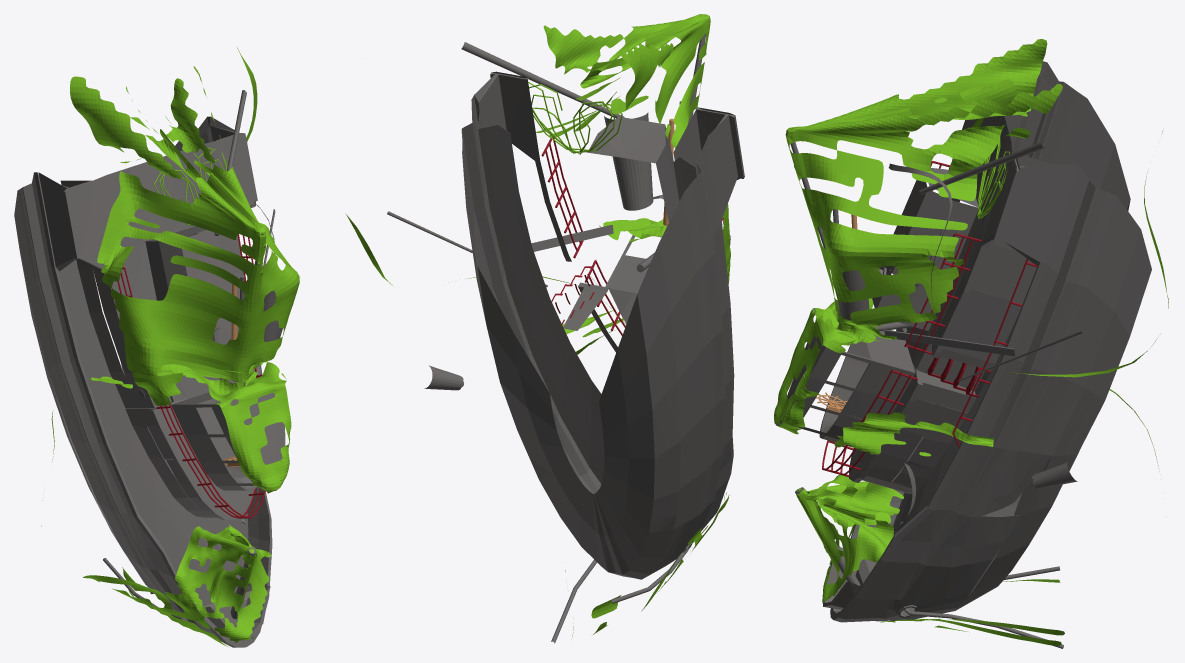
Rendered from herkules.glb.
3 renders of one model, left to right at view 1: azimuth 30°, elevation 25°; view 2: azimuth 150°, elevation 25°; view 3: azimuth 270°, elevation 25°, orthographic. The views are drawn at different scales.
Visible parts, largest first — view 1: Plane_001-mesh, Circle_001-mesh, Circle-mesh, Plane_004-mesh, Plane_003-mesh, Plane_007-mesh, CUAufbau_001-mesh, Circle_005-mesh, Circle_002-mesh, Circle_003-mesh, Cylinder_007-mesh, Cylinder_005-mesh (+2 smaller); view 2: Circle-mesh, Circle_001-mesh, Plane_001-mesh, Cylinder_007-mesh, CUPlane-mesh, CUAufbau_001-mesh, Cylinder_005-mesh, Plane_007-mesh, Cube-mesh, Plane_004-mesh, Cylinder_009-mesh; view 3: Circle-mesh, Circle_001-mesh, Plane_001-mesh, Plane_003-mesh, Plane_004-mesh, CUAufbau_001-mesh, Circle_005-mesh, Plane_007-mesh, Cube-mesh, Circle_002-mesh, CUPlane-mesh, Cylinder_005-mesh (+6 smaller).
Boxes of the visible parts, <box> form: Plane_001-mesh: <box>70,66,299,405</box>; Circle_001-mesh: <box>38,117,285,519</box>; Circle-mesh: <box>14,116,272,647</box>; Plane_004-mesh: <box>91,361,291,493</box>; Plane_003-mesh: <box>175,524,270,642</box>; Plane_007-mesh: <box>83,567,229,647</box>; CUAufbau_001-mesh: <box>117,234,265,518</box>; Circle_005-mesh: <box>196,398,256,490</box>; Circle_002-mesh: <box>205,586,270,639</box>; Circle_003-mesh: <box>115,380,171,408</box>; Cylinder_007-mesh: <box>263,290,282,341</box>; Cylinder_005-mesh: <box>214,90,246,235</box>; Circle-mesh: <box>461,95,734,579</box>; Circle_001-mesh: <box>474,71,744,352</box>; Plane_001-mesh: <box>536,14,730,283</box>; Cylinder_007-mesh: <box>604,112,653,210</box>; CUPlane-mesh: <box>528,82,622,154</box>; CUAufbau_001-mesh: <box>541,137,723,335</box>; Cylinder_005-mesh: <box>461,42,624,118</box>; Plane_007-mesh: <box>591,495,729,634</box>; Cube-mesh: <box>531,225,613,251</box>; Plane_004-mesh: <box>562,218,730,354</box>; Cylinder_009-mesh: <box>424,365,463,390</box>; Circle-mesh: <box>830,61,1151,622</box>; Circle_001-mesh: <box>776,115,1072,493</box>; Plane_001-mesh: <box>785,39,1062,353</box>; Plane_003-mesh: <box>796,475,903,603</box>; Plane_004-mesh: <box>774,298,993,456</box>; CUAufbau_001-mesh: <box>822,161,981,476</box>; Circle_005-mesh: <box>819,341,870,438</box>; Plane_007-mesh: <box>880,579,1064,645</box>; Cube-mesh: <box>884,329,1015,356</box>; Circle_002-mesh: <box>823,547,869,609</box>; CUPlane-mesh: <box>977,136,1009,219</box>; Cylinder_005-mesh: <box>919,141,1045,194</box>.
Size of the model in its own units: 12.41 by 22.62 by 13.62.
